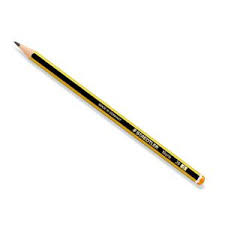Lapiz: (8, 36, 212, 188)
